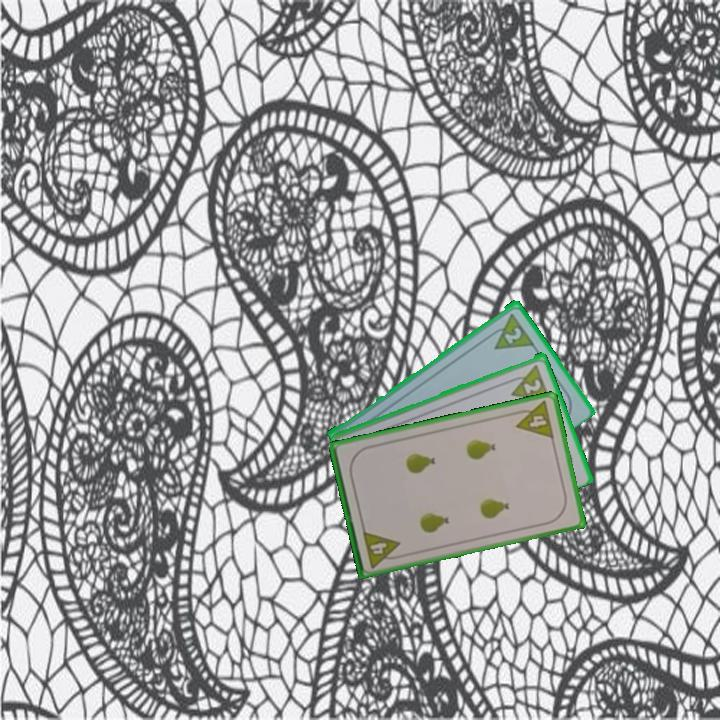2p: (483, 309, 536, 352), (520, 375, 544, 397)
4p: (510, 397, 557, 441), (359, 527, 405, 571)
